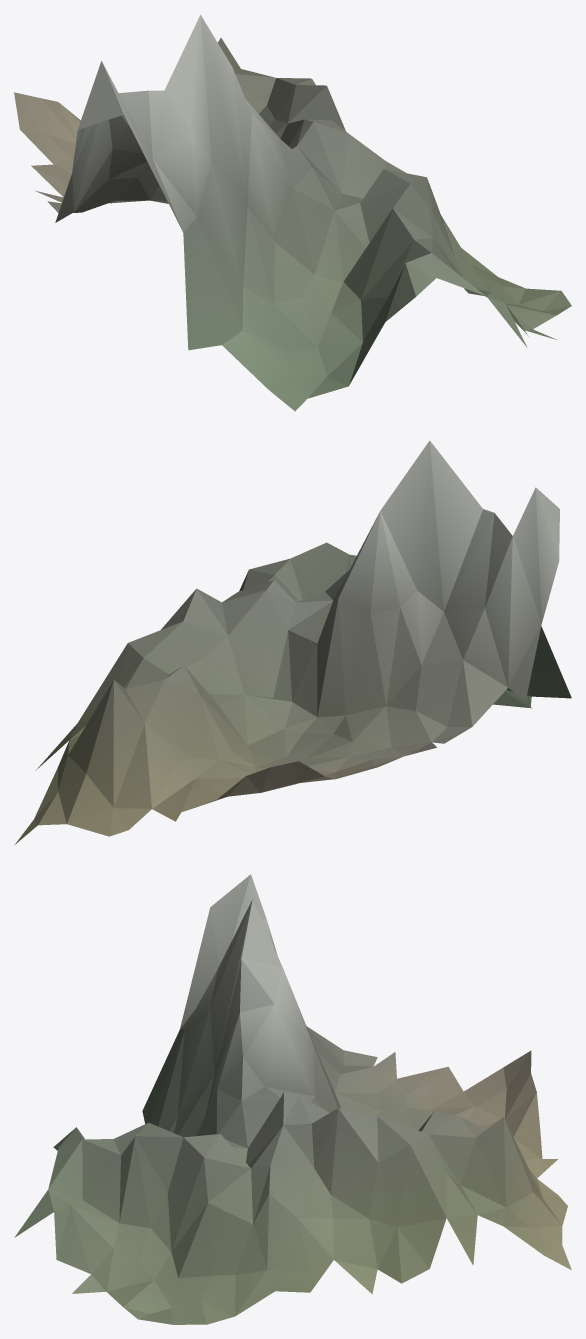
The picture shows the model from 3 angles, top to bottom: view 1: azimuth 30°, elevation 25°; view 2: azimuth 150°, elevation 25°; view 3: azimuth 270°, elevation 25°; orthographic projection. The views are drawn at different scales.
Parts seen in each view (by area): view 1: 横断峡谷; view 2: 横断峡谷; view 3: 横断峡谷.
Part boxes in pixels (x1,y1,x2,y2): 横断峡谷: [14, 15, 571, 411]; 横断峡谷: [14, 440, 571, 845]; 横断峡谷: [14, 874, 571, 1324].
Bounding box in the file's own units: 9.39 × 6.71 × 11.52.
